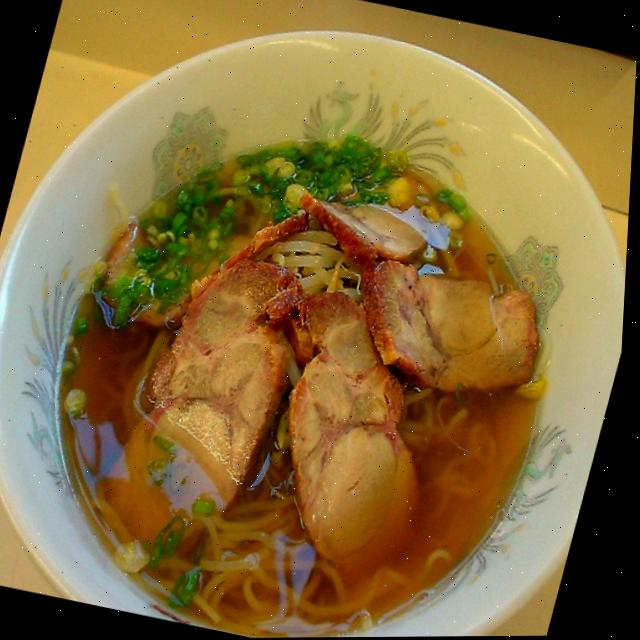面条主食: (0, 74, 613, 640)
